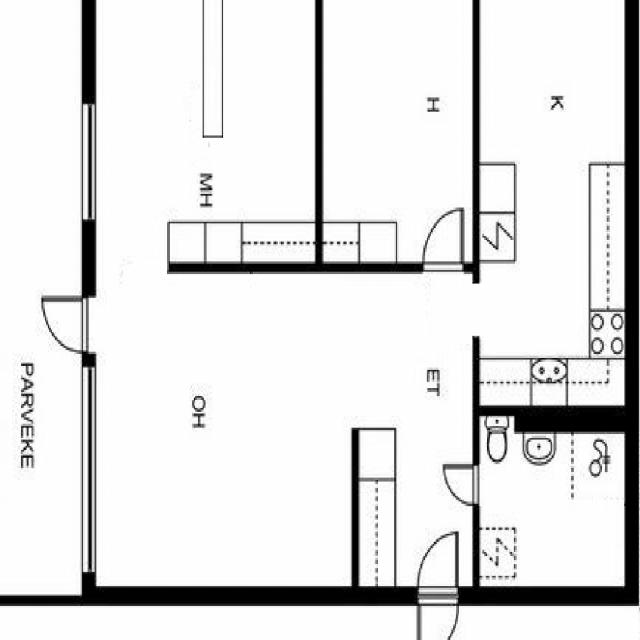door: (40, 297, 96, 354), (424, 212, 462, 272), (419, 534, 457, 593), (419, 597, 457, 640), (441, 464, 479, 506)
